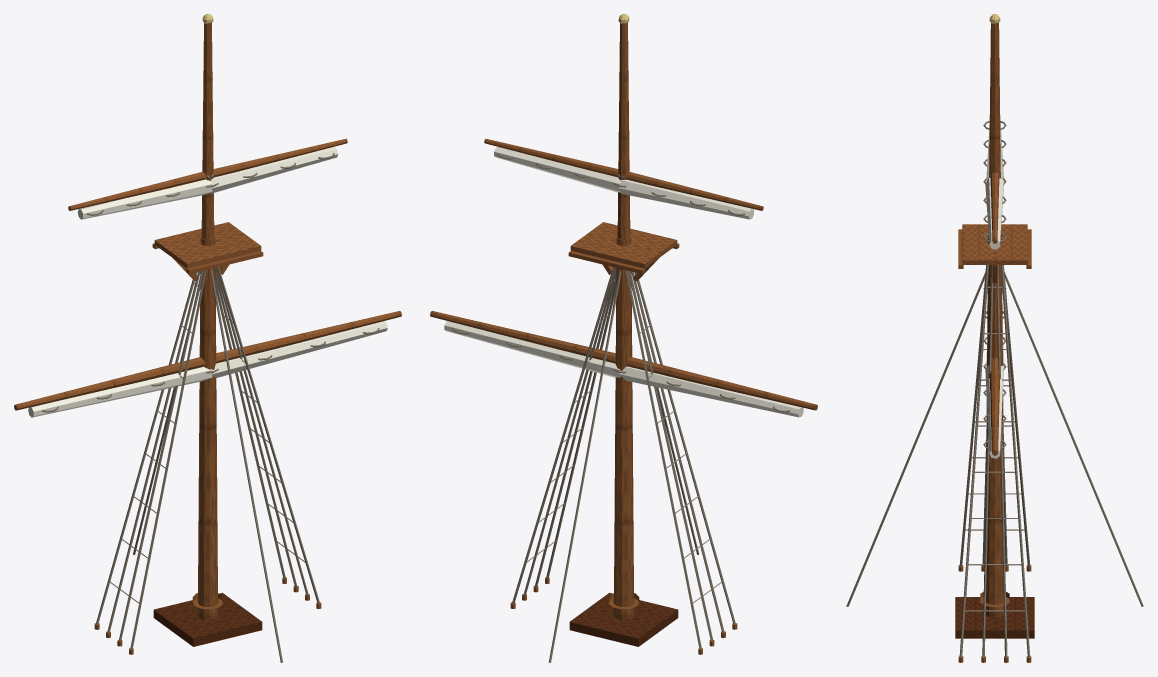
The model's file is pirate-port-and-tall-ships-ship-mast-module-0e7d4cbb__30151.glb.
The picture shows the model from 3 angles, left to right: view 1: azimuth 30°, elevation 25°; view 2: azimuth 150°, elevation 25°; view 3: azimuth 270°, elevation 25°; orthographic projection.
Visible parts, largest first — view 1: ship-mast-module; view 2: ship-mast-module; view 3: ship-mast-module.
Part boxes in pixels (x1,y1,x2,y2): ship-mast-module: (14, 14, 401, 662); ship-mast-module: (430, 14, 817, 662); ship-mast-module: (846, 14, 1143, 662).
Size of the model in its own units: 7.8 by 11.81 by 5.24.
Materials: 6 (2 with a texture image).
